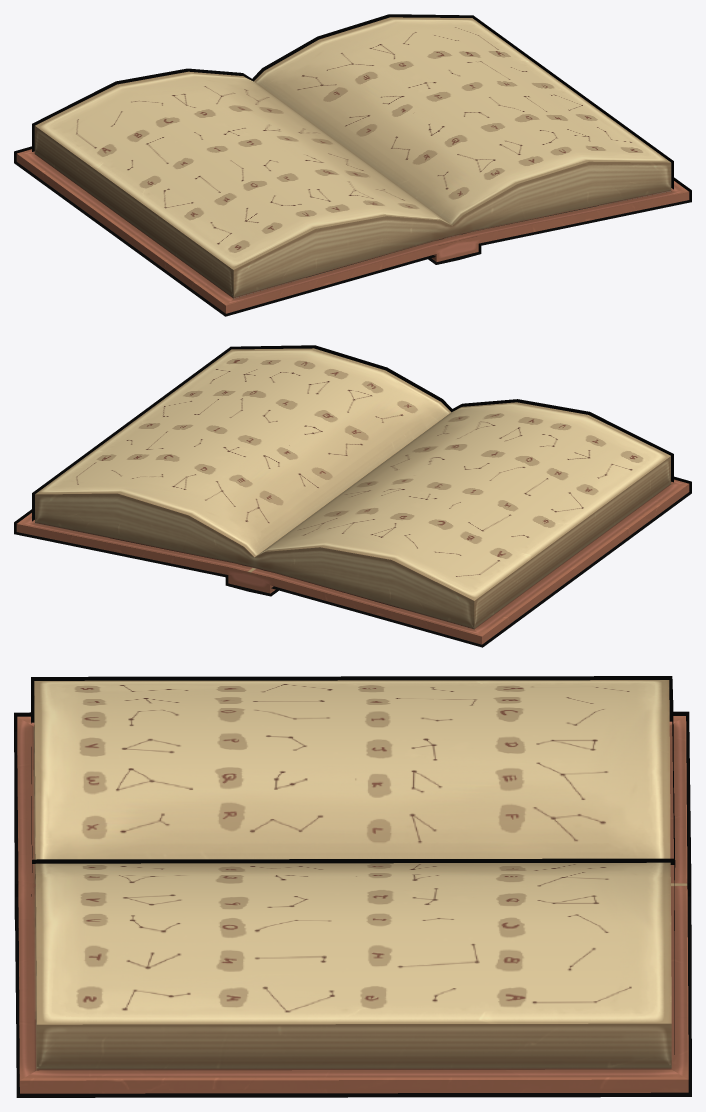
Rendered from bookopen.fbx.
3 renders of one model, top to bottom at view 1: azimuth 30°, elevation 25°; view 2: azimuth 150°, elevation 25°; view 3: azimuth 270°, elevation 25°, orthographic. The views are drawn at different scales.
Visible parts, largest first — view 1: Book 1.001; view 2: Book 1.001; view 3: Book 1.001.
Part boxes in pixels (bbox=[...]): Book 1.001: bbox=[14, 14, 691, 316]; Book 1.001: bbox=[14, 345, 691, 647]; Book 1.001: bbox=[14, 676, 691, 1097].
Size of the model in its own units: 78.72 by 61.4 by 10.01.
